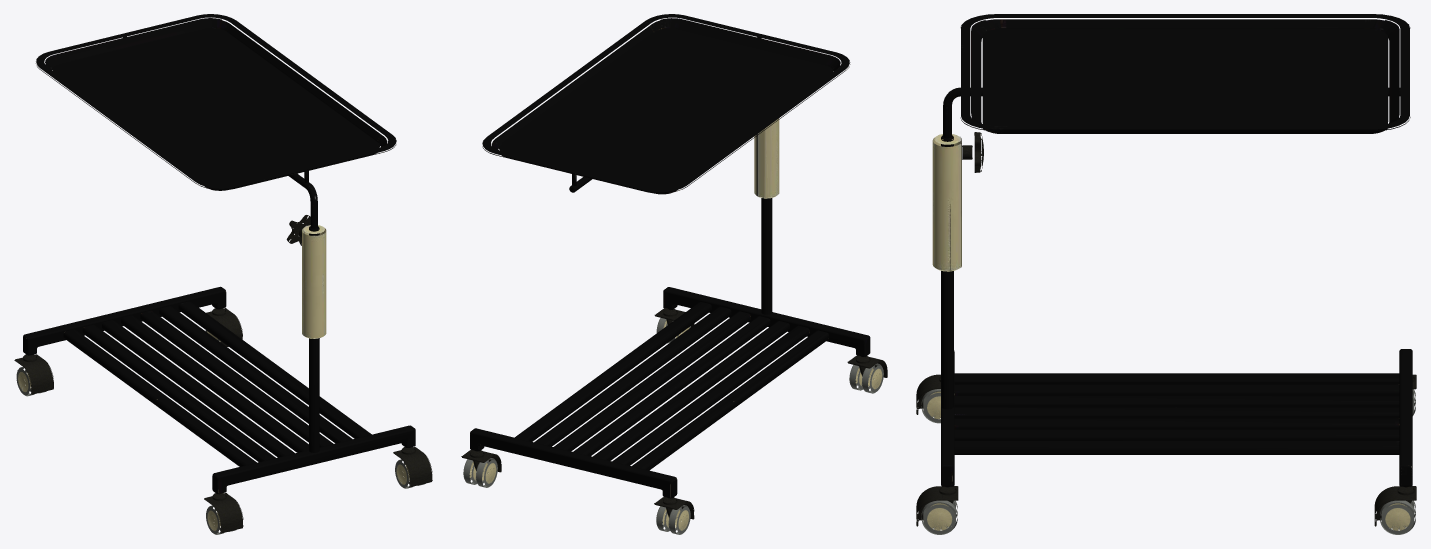
Rendered from bk_mayo_table.glb.
The picture shows the model from 3 angles, left to right: view 1: azimuth 30°, elevation 25°; view 2: azimuth 150°, elevation 25°; view 3: azimuth 270°, elevation 25°; orthographic projection. The views are drawn at different scales.
Parts seen in each view (by area): view 1: Box095.001, Swivel001, Swivel001.001, Swivel001.003, Swivel001.002; view 2: Box095.001, Wheel001.002, Wheel001.001, Wheel001.003; view 3: Box095.001, Wheel001.002, Wheel001, Swivel001, Swivel001.002.
Part boxes in pixels (left/top/right/bottom): Box095.001: left=23, top=14, right=415, bottom=494; Swivel001: left=393, top=447, right=432, bottom=486; Swivel001.001: left=204, top=493, right=243, bottom=533; Swivel001.003: left=14, top=354, right=53, bottom=394; Swivel001.002: left=206, top=308, right=242, bottom=346; Box095.001: left=470, top=14, right=870, bottom=498; Wheel001.002: left=463, top=458, right=497, bottom=487; Wheel001.001: left=849, top=363, right=883, bottom=393; Wheel001.003: left=656, top=505, right=690, bottom=534; Box095.001: left=932, top=14, right=1412, bottom=486; Wheel001.002: left=1380, top=500, right=1415, bottom=534; Wheel001: left=921, top=500, right=957, bottom=534; Swivel001: left=916, top=486, right=958, bottom=526; Swivel001.002: left=1374, top=486, right=1416, bottom=526.
Bounding box in the file's own units: 0.533 × 0.7997 × 0.9014.
10 materials, 10 textured.
